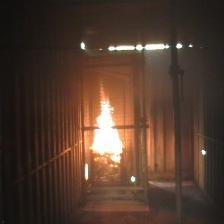fire: (90, 81, 128, 163)
